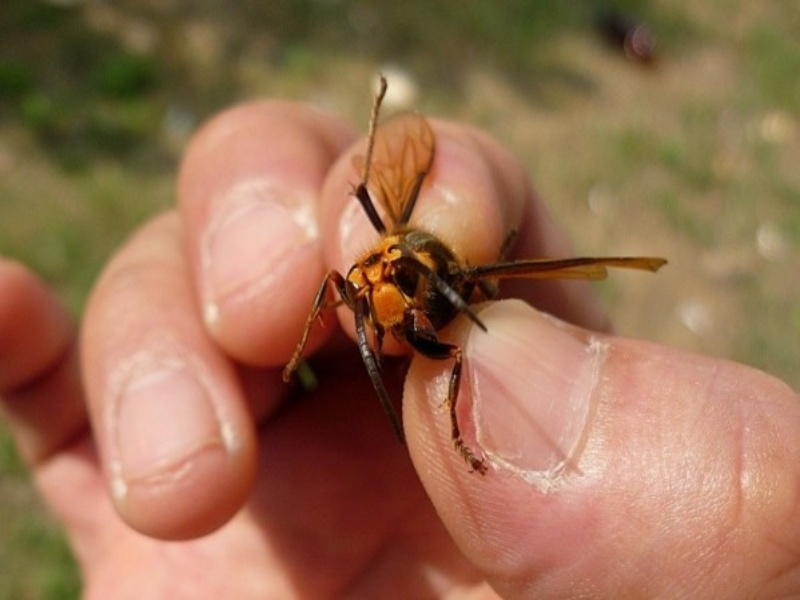asian_giant_hornet: (333, 222, 478, 372)
